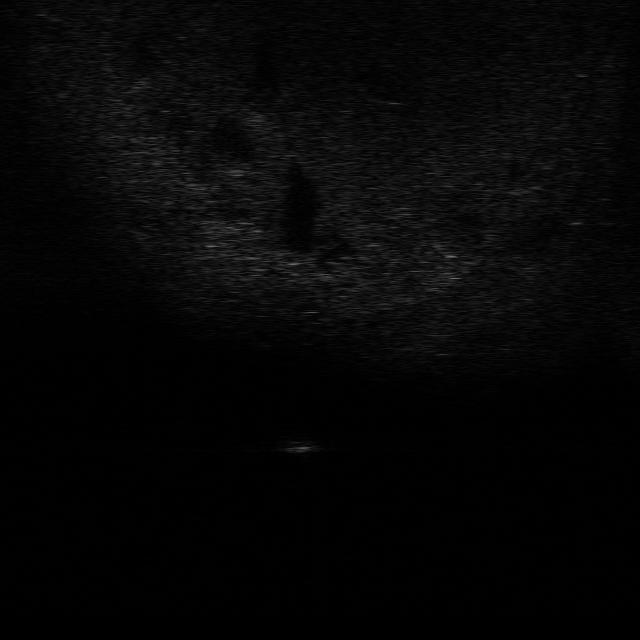cube: (274, 435, 324, 453)
